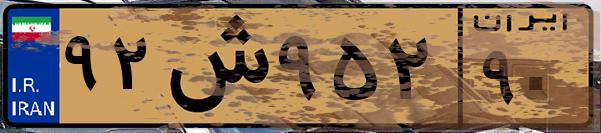0: (525, 38, 570, 115)
2: (385, 28, 445, 110), (110, 28, 158, 98)
5: (330, 28, 385, 110)
9: (270, 28, 330, 110), (57, 26, 110, 100), (475, 38, 525, 113)
ش: (158, 12, 270, 120)
